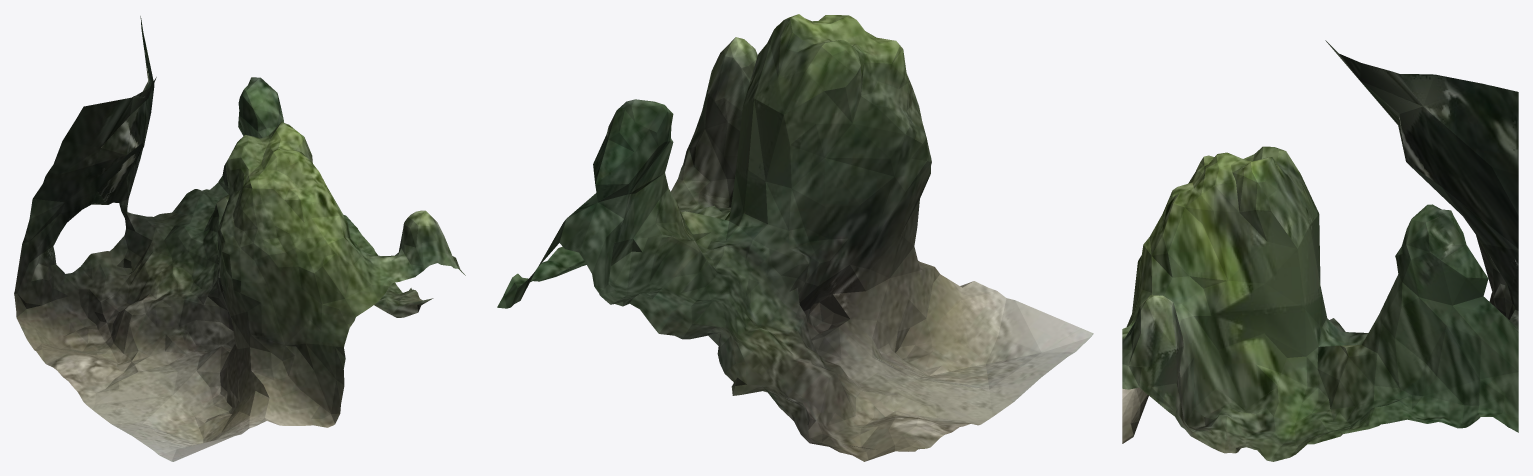
The picture shows the model from 3 angles, left to right: view 1: azimuth 30°, elevation 25°; view 2: azimuth 150°, elevation 25°; view 3: azimuth 270°, elevation 25°; orthographic projection. The views are drawn at different scales.
Size of the model in its own units: 5.9 by 5.87 by 5.9.
Materials: 5 (5 with a texture image).
